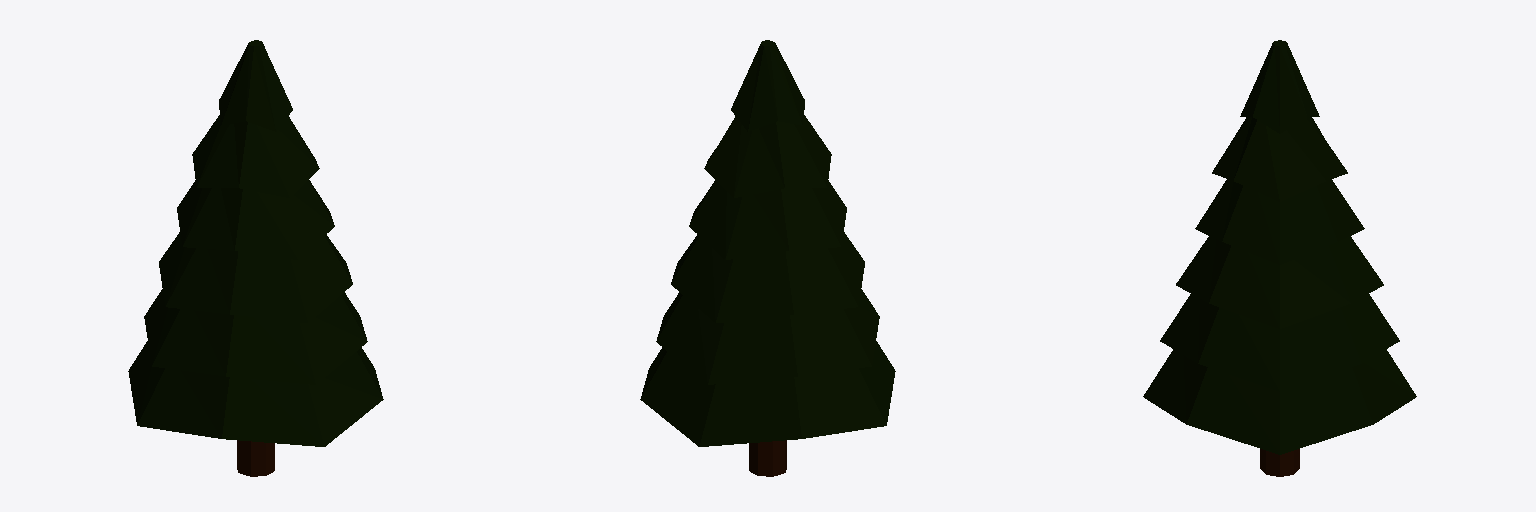
Rendered from tree.obj.
3 renders of one model, left to right at view 1: azimuth 30°, elevation 25°; view 2: azimuth 150°, elevation 25°; view 3: azimuth 270°, elevation 25°, orthographic.
Visible parts, largest first — view 1: Cylinder; view 2: Cylinder; view 3: Cylinder.
Part boxes in pixels (left/top/right/bottom): Cylinder: left=128, top=40, right=383, bottom=476; Cylinder: left=640, top=40, right=895, bottom=476; Cylinder: left=1143, top=40, right=1416, bottom=476.
Bounding box in the file's own units: 3.71 × 6.34 × 3.71.